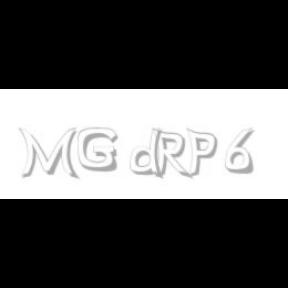6: (225, 128, 254, 176)
G: (77, 128, 117, 172)
M: (18, 128, 78, 180)
P: (186, 128, 218, 178)
R: (152, 128, 190, 180)
d: (130, 128, 166, 180)
